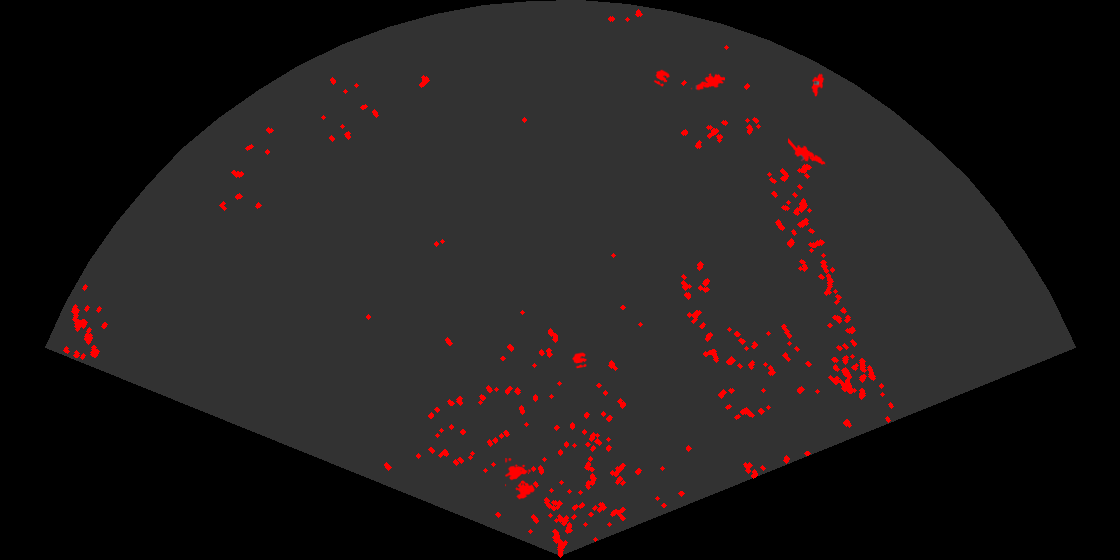AUV: (810, 72, 826, 98)
ball: (652, 68, 671, 88), (571, 351, 588, 370)
cage: (505, 458, 537, 501)
frogman: (788, 136, 827, 168), (690, 72, 725, 92)
